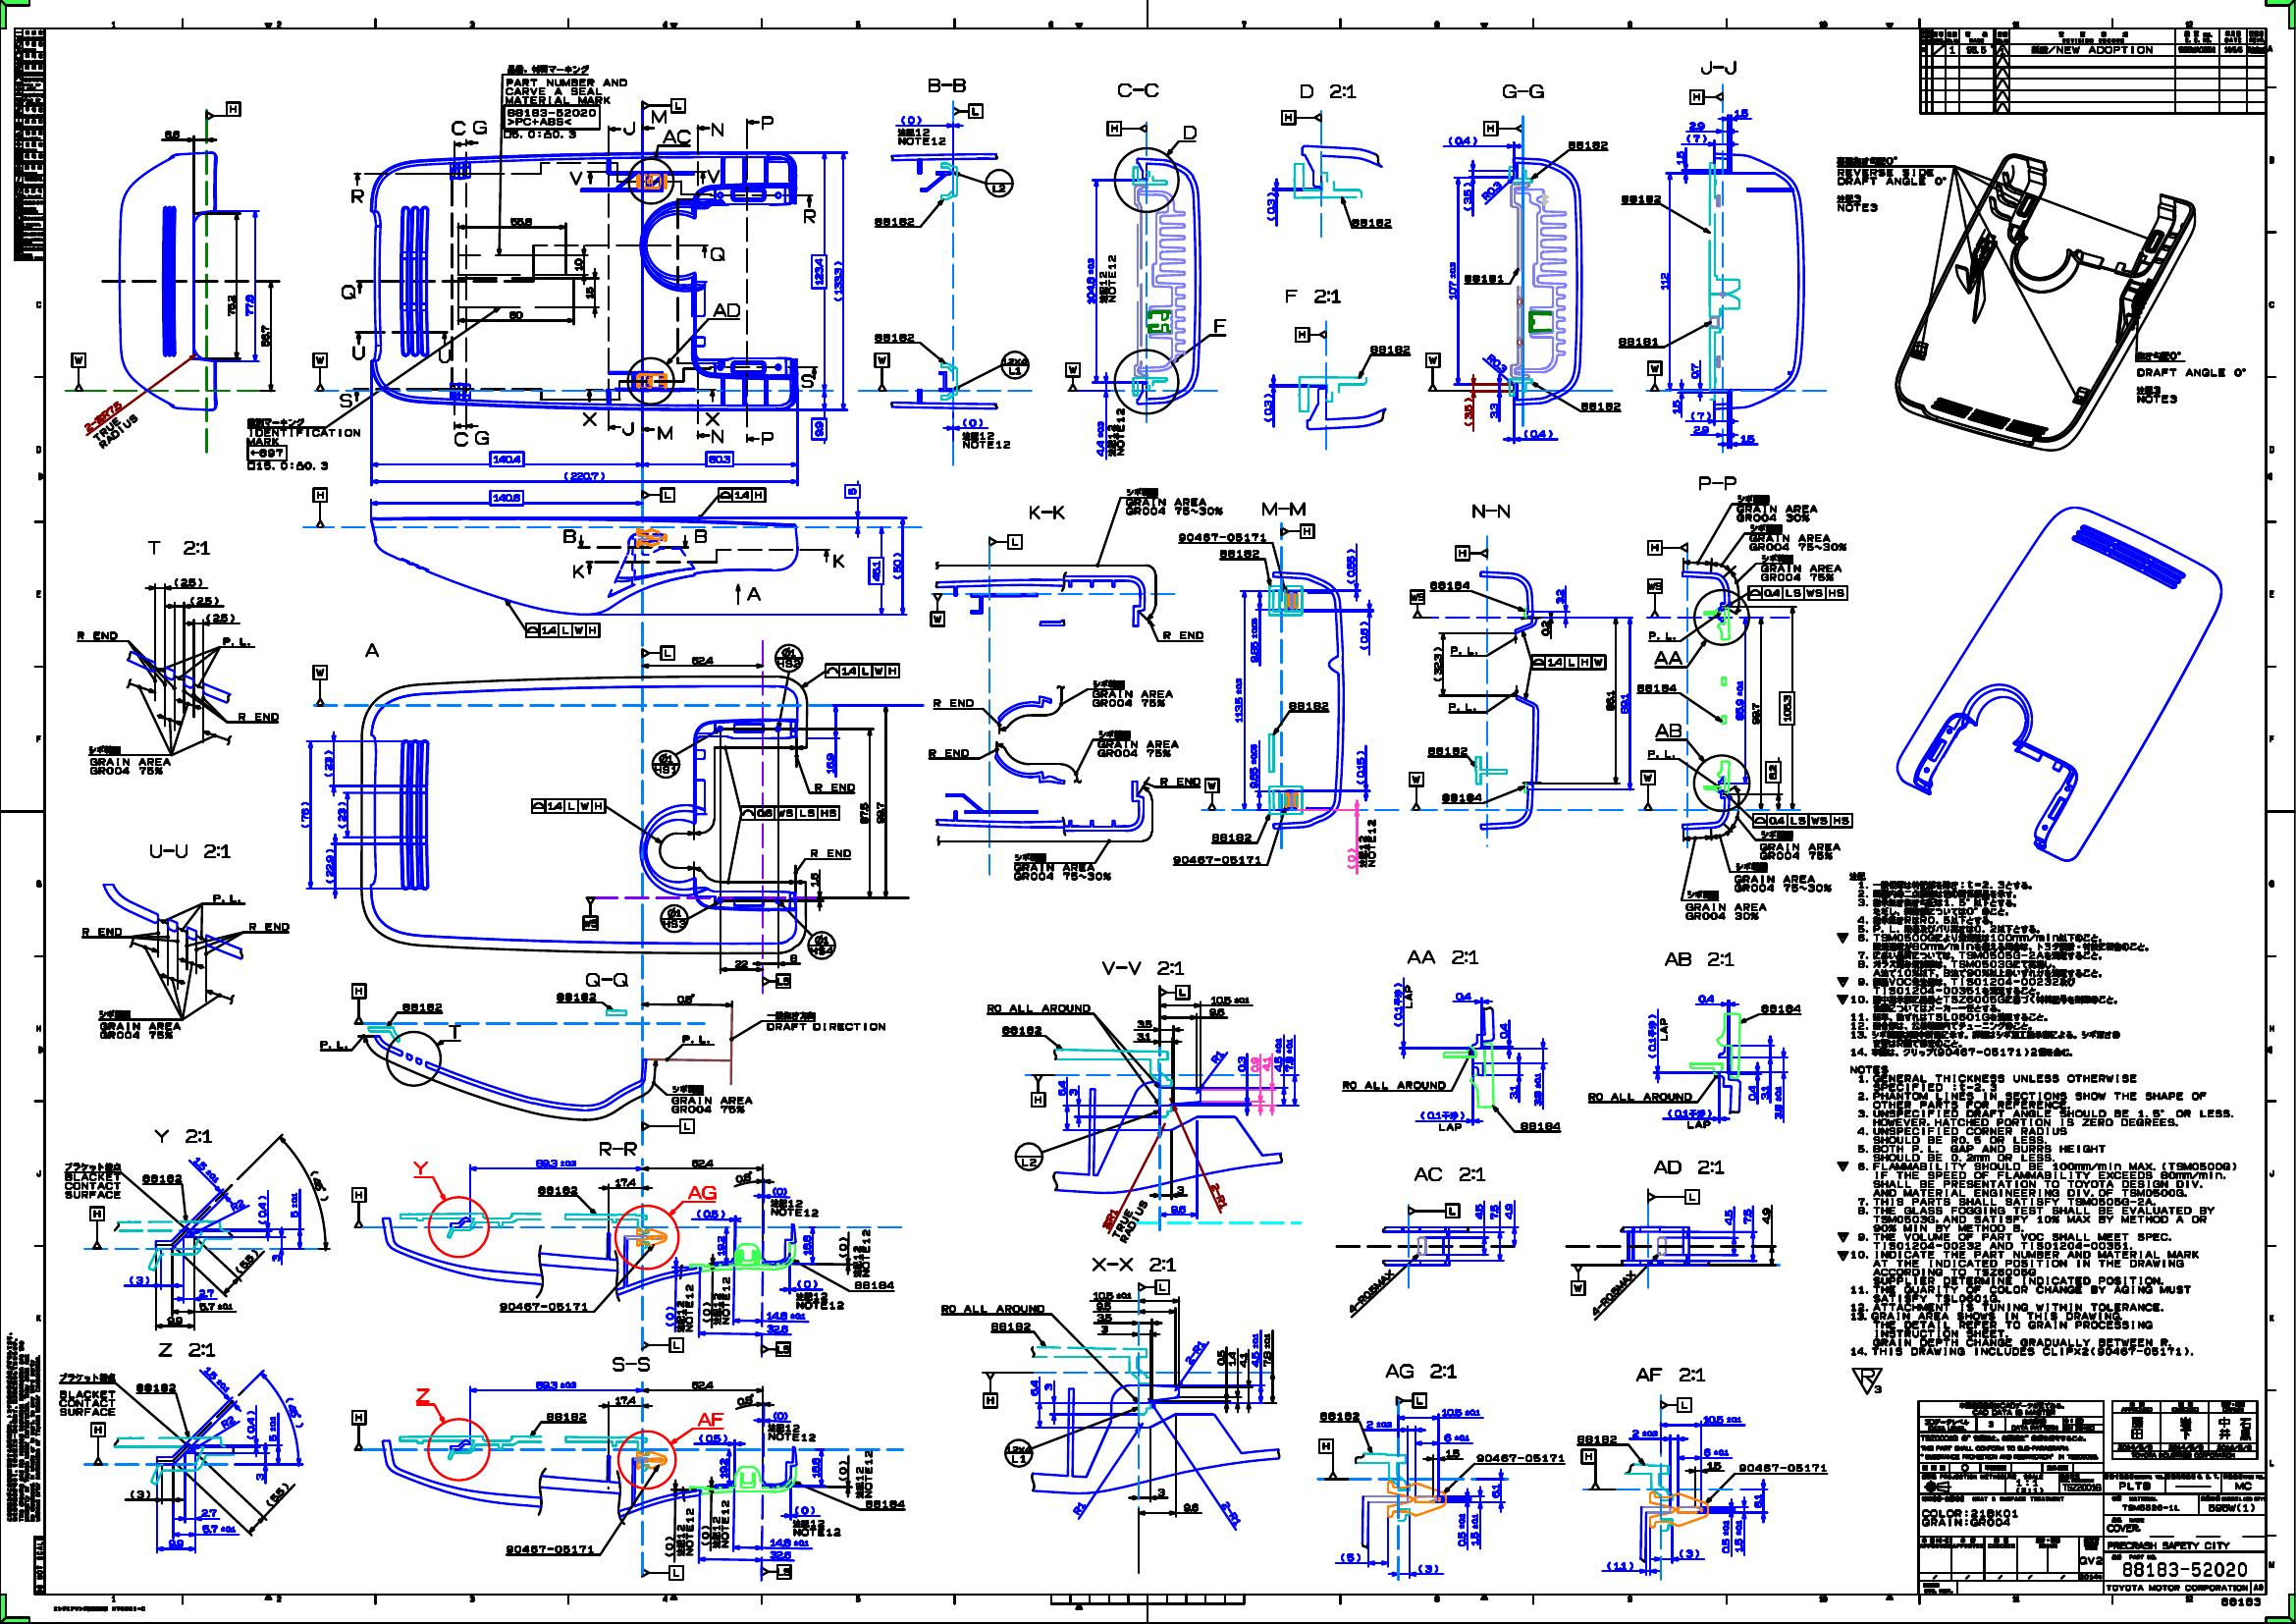anntotation_text: (1832, 1062, 2240, 1359), (1836, 868, 2150, 1060), (502, 63, 629, 141), (4, 1329, 40, 1522), (244, 415, 362, 475), (1834, 155, 1948, 186), (1734, 861, 1832, 893), (1014, 852, 1112, 882), (1126, 487, 1223, 517), (97, 1009, 183, 1040), (1760, 828, 1841, 861), (1748, 524, 1848, 550), (1685, 889, 1767, 921), (88, 745, 170, 777), (764, 1011, 885, 1032), (58, 1373, 116, 1417), (1734, 492, 1818, 522), (671, 1084, 754, 1114), (1096, 729, 1180, 758), (1760, 554, 1841, 582), (1091, 680, 1175, 707), (63, 1162, 121, 1199), (148, 840, 232, 861), (84, 406, 137, 439), (1091, 1253, 1177, 1272), (1751, 812, 1852, 828), (1100, 958, 1186, 975), (1405, 947, 1481, 967), (1662, 949, 1736, 968), (1748, 585, 1848, 599), (144, 538, 213, 557), (1653, 1158, 1727, 1176), (1412, 1165, 1486, 1183), (740, 807, 840, 819), (766, 1420, 819, 1443), (523, 622, 599, 638), (824, 663, 899, 678), (531, 798, 606, 814), (1298, 81, 1358, 100), (1634, 1366, 1706, 1381), (1384, 1362, 1456, 1378), (1585, 1090, 1692, 1100), (986, 1002, 1091, 1012), (1340, 1079, 1446, 1090), (1096, 251, 1117, 304), (504, 1543, 594, 1555), (1530, 654, 1606, 668), (153, 1127, 213, 1144), (1391, 982, 1414, 1028), (1646, 1012, 1669, 1058), (1358, 816, 1377, 868), (156, 1341, 214, 1359), (1284, 288, 1342, 306), (1418, 1111, 1465, 1132), (1665, 1107, 1713, 1128), (1850, 1366, 1883, 1396), (675, 1506, 694, 1557), (850, 1227, 870, 1278), (961, 431, 1012, 450), (2136, 367, 2247, 376), (1177, 531, 1268, 541), (497, 1301, 588, 1311), (1105, 1209, 1154, 1229), (771, 1197, 820, 1216), (675, 1283, 694, 1332), (773, 642, 803, 673), (657, 903, 689, 933), (806, 930, 838, 960), (1739, 1462, 1827, 1473), (713, 1274, 731, 1327), (940, 1304, 1045, 1313), (854, 1450, 873, 1497), (791, 1519, 841, 1536), (794, 1292, 845, 1309), (896, 128, 947, 146), (1107, 406, 1124, 457), (1014, 1141, 1043, 1171), (1003, 1438, 1033, 1468), (1000, 350, 1029, 380), (984, 167, 1014, 197), (650, 749, 680, 779), (711, 1497, 729, 1547), (1646, 1188, 1700, 1204), (2134, 385, 2178, 404), (51, 1605, 146, 1613), (643, 1118, 696, 1134), (1579, 1287, 1646, 1299), (1337, 1287, 1404, 1299), (1836, 193, 1878, 213), (1172, 856, 1263, 865), (1476, 1454, 1565, 1462), (88, 1206, 105, 1250), (611, 1355, 650, 1374), (1697, 475, 1739, 492), (1407, 1204, 1460, 1218), (1318, 1438, 1335, 1480), (1260, 501, 1305, 517), (1500, 83, 1546, 98), (583, 972, 629, 988), (1470, 501, 1511, 518), (1107, 120, 1147, 137), (641, 97, 685, 112), (90, 1422, 105, 1466), (1116, 81, 1159, 97), (873, 353, 891, 392), (718, 487, 766, 501), (641, 1338, 683, 1353), (641, 1564, 683, 1580), (350, 982, 365, 1025), (597, 1141, 639, 1156), (1648, 540, 1688, 555), (350, 1410, 365, 1450), (1581, 1448, 1597, 1489), (70, 352, 86, 392), (926, 77, 966, 93), (1281, 109, 1321, 125), (1026, 504, 1066, 520), (711, 299, 741, 320), (1455, 545, 1488, 562), (1203, 777, 1221, 810), (662, 127, 692, 146), (1483, 121, 1523, 135), (1699, 60, 1739, 74), (351, 1186, 365, 1227), (812, 780, 857, 793), (929, 592, 945, 627), (1688, 88, 1723, 104), (313, 352, 327, 390), (313, 487, 327, 526), (1648, 578, 1662, 617), (1641, 772, 1655, 810), (982, 1371, 996, 1410), (313, 666, 327, 705), (926, 747, 970, 759), (1758, 1002, 1802, 1014), (76, 629, 119, 642), (237, 710, 281, 722), (1397, 1392, 1426, 1410), (1318, 1410, 1360, 1422), (991, 1320, 1033, 1332), (1425, 353, 1439, 390), (810, 847, 852, 859), (35, 1536, 44, 1594), (2220, 1596, 2261, 1608), (1409, 773, 1423, 808), (206, 102, 241, 116), (639, 645, 675, 659), (2136, 350, 2182, 360), (696, 1411, 726, 1427), (1029, 1076, 1045, 1106), (762, 1341, 792, 1357), (641, 487, 675, 501), (1137, 1280, 1170, 1294), (989, 534, 1022, 548), (583, 898, 597, 932), (1635, 682, 1679, 692), (1518, 1121, 1562, 1132), (931, 698, 975, 708), (1161, 629, 1205, 640), (555, 991, 599, 1002), (1655, 649, 1683, 664), (1426, 745, 1469, 756), (1440, 791, 1483, 801), (1217, 548, 1260, 559), (1288, 700, 1330, 710), (1158, 775, 1200, 786), (761, 1564, 792, 1578), (864, 1499, 906, 1510), (1660, 1397, 1692, 1411), (689, 1185, 717, 1200), (854, 1280, 896, 1290), (135, 1381, 177, 1392), (1065, 362, 1080, 390), (1351, 216, 1393, 227), (1295, 327, 1326, 341), (1368, 344, 1411, 355), (1579, 401, 1621, 411), (1567, 139, 1609, 149), (1620, 193, 1662, 204), (762, 974, 791, 990), (81, 926, 123, 937), (538, 1185, 580, 1195), (1281, 526, 1316, 538), (1210, 831, 1251, 842), (546, 1411, 587, 1422), (1463, 272, 1504, 283), (1159, 984, 1189, 998), (1648, 360, 1662, 390), (1655, 722, 1681, 738), (1409, 591, 1425, 617), (1570, 1265, 1585, 1294), (954, 104, 982, 118), (399, 1002, 443, 1011), (650, 107, 669, 127), (708, 244, 727, 264), (708, 427, 727, 446), (798, 373, 817, 392), (655, 424, 673, 445), (450, 116, 467, 137), (703, 408, 720, 429), (1428, 580, 1470, 589), (1000, 1025, 1042, 1033), (1576, 1434, 1618, 1443), (141, 1174, 183, 1183), (560, 526, 578, 547), (745, 584, 762, 605), (829, 550, 847, 571), (873, 332, 915, 341), (248, 923, 290, 932), (873, 216, 913, 225), (1618, 337, 1658, 346), (1449, 643, 1477, 656), (453, 429, 471, 448), (473, 427, 490, 446), (580, 410, 597, 429), (620, 418, 638, 438), (336, 390, 353, 410), (350, 344, 367, 364), (436, 346, 453, 366), (339, 283, 357, 302), (348, 186, 365, 206), (471, 118, 488, 137), (620, 120, 638, 139), (708, 121, 726, 141), (759, 114, 776, 134), (704, 163, 722, 183), (566, 169, 583, 188), (757, 429, 775, 448), (801, 207, 819, 227), (690, 527, 708, 547), (569, 562, 587, 582), (680, 1033, 711, 1044), (1448, 700, 1477, 710), (221, 634, 251, 645), (413, 1158, 429, 1178), (1648, 629, 1674, 640), (415, 1387, 432, 1403), (1182, 123, 1198, 141), (1646, 749, 1676, 758), (211, 893, 241, 902), (318, 1040, 348, 1049), (364, 642, 379, 657), (1212, 316, 1226, 334)
dimension_text: (490, 450, 523, 466), (1086, 257, 1096, 304), (488, 490, 523, 504), (1233, 677, 1244, 722), (812, 255, 826, 288), (1780, 691, 1794, 724), (704, 450, 733, 466), (202, 1522, 237, 1534), (766, 1309, 806, 1320), (564, 471, 604, 482), (1440, 1406, 1481, 1417), (1702, 1413, 1743, 1424), (1249, 615, 1258, 663), (1448, 260, 1458, 299), (1249, 743, 1258, 789), (1094, 420, 1105, 457), (534, 1158, 576, 1167), (1432, 647, 1442, 682), (870, 557, 884, 584), (833, 260, 841, 302), (200, 1374, 235, 1385), (188, 1164, 223, 1174), (534, 1380, 576, 1388), (1532, 1072, 1542, 1107), (1456, 1512, 1467, 1547), (1773, 1084, 1783, 1120), (1358, 620, 1370, 650), (1209, 995, 1249, 1004), (1734, 680, 1743, 721), (325, 849, 336, 882), (288, 1396, 299, 1429), (199, 1301, 232, 1311), (769, 1538, 808, 1547), (1093, 1290, 1131, 1299), (1765, 761, 1781, 782), (230, 1257, 262, 1267), (1265, 190, 1275, 221), (812, 417, 826, 439), (264, 1489, 293, 1499), (313, 1171, 323, 1200), (1251, 1332, 1260, 1367), (1263, 1332, 1272, 1367), (1356, 749, 1365, 784), (1347, 548, 1356, 584), (1722, 1519, 1730, 1554), (1734, 1519, 1743, 1554), (1096, 1213, 1121, 1225), (1217, 1508, 1245, 1519), (174, 576, 202, 587), (699, 1432, 727, 1443), (1442, 1432, 1470, 1443), (1630, 1427, 1658, 1438), (1274, 1037, 1282, 1070), (1284, 1037, 1293, 1070), (696, 1209, 727, 1218), (1214, 1183, 1224, 1209), (246, 1410, 255, 1441), (1470, 1513, 1479, 1545), (1463, 181, 1472, 213), (1479, 186, 1505, 197), (190, 596, 220, 605), (206, 613, 235, 622), (891, 550, 899, 580), (1263, 392, 1272, 422), (1448, 135, 1477, 144), (1523, 429, 1553, 438), (1685, 132, 1706, 144), (1180, 1346, 1209, 1355), (323, 749, 332, 777), (256, 1195, 265, 1223), (1365, 1420, 1393, 1429), (1606, 1561, 1634, 1570), (1463, 397, 1472, 425), (838, 1236, 848, 1258), (859, 801, 870, 824), (260, 323, 271, 346), (899, 114, 922, 125), (1416, 1562, 1439, 1573), (734, 1171, 754, 1183), (1679, 1547, 1699, 1559), (337, 801, 346, 828), (300, 801, 309, 828), (269, 1415, 278, 1441), (290, 1192, 299, 1218), (1702, 1446, 1729, 1455), (1340, 1552, 1361, 1562), (508, 216, 532, 225), (1484, 359, 1509, 367), (676, 993, 696, 1004), (128, 1274, 148, 1285), (718, 1457, 729, 1476), (838, 1459, 847, 1482), (766, 1323, 789, 1332), (613, 1178, 636, 1186), (690, 1158, 713, 1167), (803, 1234, 812, 1257), (1620, 692, 1628, 715), (1606, 689, 1614, 712), (875, 801, 884, 824), (826, 750, 834, 773), (690, 656, 713, 664), (244, 294, 253, 316), (615, 1396, 638, 1404), (690, 1380, 713, 1388), (1751, 701, 1760, 724), (845, 483, 859, 497), (812, 1455, 820, 1476), (794, 1504, 815, 1513), (769, 1550, 791, 1559), (664, 1536, 673, 1557), (796, 1280, 817, 1288), (666, 1306, 675, 1327), (717, 1236, 726, 1257), (1182, 1501, 1200, 1512), (1347, 847, 1356, 868), (227, 294, 235, 315), (128, 1489, 149, 1497), (736, 1394, 754, 1404), (1690, 411, 1711, 420), (1446, 1446, 1460, 1459), (701, 1526, 710, 1545), (963, 417, 982, 425), (1096, 1301, 1112, 1311), (1555, 589, 1565, 605), (199, 1287, 214, 1297), (1688, 120, 1704, 130), (1029, 1378, 1038, 1396), (1096, 1313, 1114, 1322), (1238, 1352, 1247, 1369), (1056, 1079, 1065, 1097), (167, 1538, 184, 1547), (199, 1508, 216, 1517), (1455, 991, 1472, 1000), (1474, 1202, 1483, 1220), (1504, 1202, 1513, 1220), (1743, 1207, 1751, 1225), (1760, 1207, 1769, 1225), (1706, 1461, 1723, 1469), (1697, 993, 1715, 1002), (1660, 272, 1669, 290), (1690, 362, 1699, 380), (703, 1301, 710, 1322), (573, 257, 583, 271), (1137, 1018, 1151, 1028), (1671, 399, 1681, 413), (771, 1186, 787, 1195), (1216, 1350, 1224, 1366), (1228, 1352, 1237, 1367), (1170, 1204, 1186, 1213), (1541, 620, 1549, 636), (508, 311, 523, 320), (220, 1417, 235, 1425), (228, 1200, 244, 1209), (1209, 1007, 1224, 1016), (1209, 1051, 1224, 1060), (1509, 1084, 1518, 1100), (1498, 1023, 1507, 1039), (1490, 1204, 1498, 1220), (1723, 1209, 1732, 1225), (1491, 1483, 1500, 1499), (1753, 1492, 1762, 1508), (1748, 1084, 1757, 1100), (1490, 402, 1498, 418), (1676, 149, 1685, 165), (1693, 425, 1709, 434), (1072, 1503, 1084, 1513), (734, 960, 748, 968), (810, 872, 819, 886), (165, 1316, 183, 1323), (1137, 1032, 1151, 1040), (1251, 1056, 1260, 1070), (1237, 1056, 1245, 1070), (1734, 107, 1748, 116), (1741, 434, 1755, 443), (163, 130, 179, 137), (1263, 1056, 1270, 1072), (1760, 1084, 1767, 1100), (585, 286, 594, 299), (1156, 1487, 1166, 1496), (789, 953, 798, 961), (1043, 1383, 1052, 1392), (1100, 1325, 1108, 1334), (1175, 1185, 1184, 1193), (1068, 1088, 1077, 1095), (255, 1473, 264, 1480)
object: (355, 673, 808, 954), (1892, 503, 2224, 865), (369, 148, 798, 413), (1894, 151, 2196, 453), (933, 561, 1156, 844), (369, 515, 803, 617), (378, 1209, 799, 1301), (1029, 1345, 1282, 1492), (379, 1434, 799, 1522), (1051, 1046, 1284, 1195), (362, 1023, 657, 1123), (889, 153, 1000, 410), (1291, 144, 1386, 431), (118, 149, 218, 413), (1708, 149, 1806, 413), (1267, 571, 1347, 831), (1507, 155, 1583, 404), (1130, 155, 1205, 404), (1681, 557, 1743, 842), (1477, 568, 1542, 833), (102, 882, 244, 958), (1354, 1452, 1448, 1548), (1625, 1462, 1709, 1562), (111, 1218, 235, 1271), (126, 649, 232, 705), (112, 1434, 235, 1482), (1442, 1005, 1497, 1109), (1688, 1012, 1743, 1114), (1381, 1225, 1470, 1267), (1620, 1225, 1692, 1264)
title_block: (1917, 1399, 2268, 1594), (1917, 28, 2268, 116), (14, 28, 44, 262)
